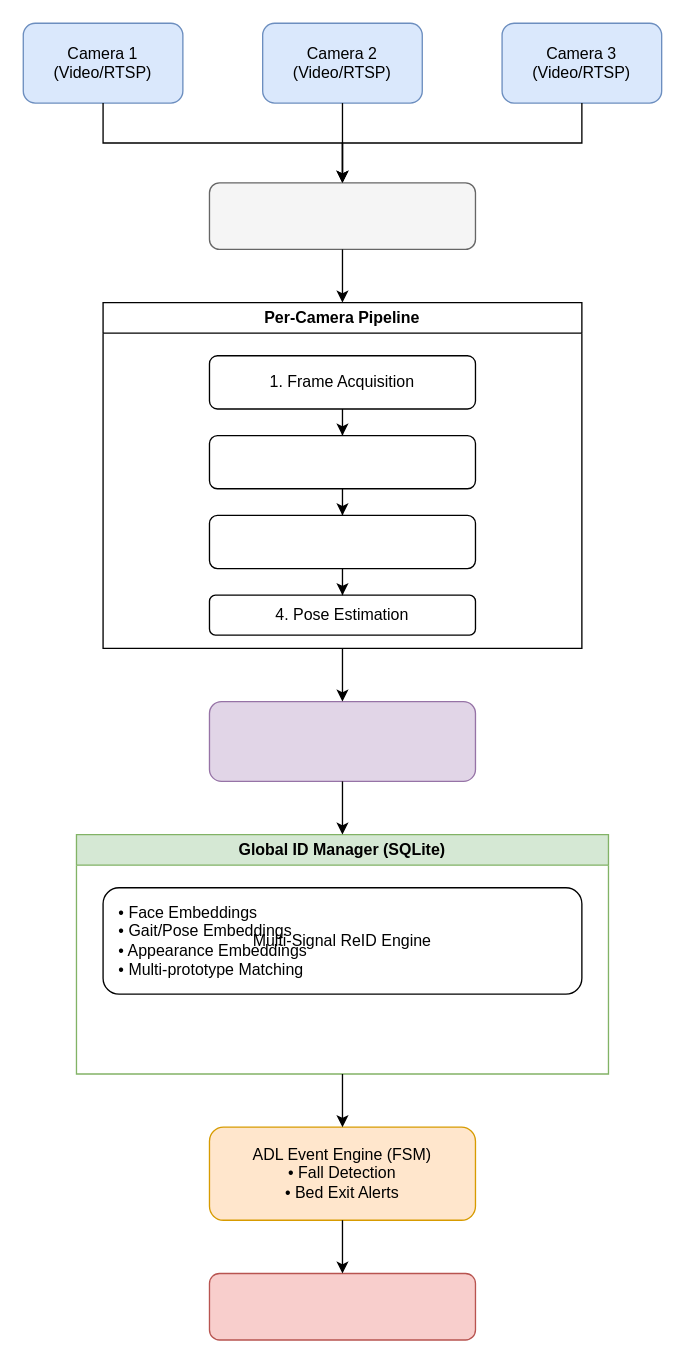
Some shapes in this 685 by 1363 pixel diagram are drawn without their labels. The shapes that lost their labels are listed below. From the top down, each one's centre as x and y in pixels, then its label:
At point (341, 215): "Source Manager (sources.yaml)".
At point (341, 461): "2. YOLO Detection (Person Class)".
At point (341, 541): "3. Local Tracking (ByteTrack)".
At point (341, 740): "Tracklet Aggregator (Multi-frame sampling)".
At point (341, 1306): "WebSocket / MJPEG Output".
